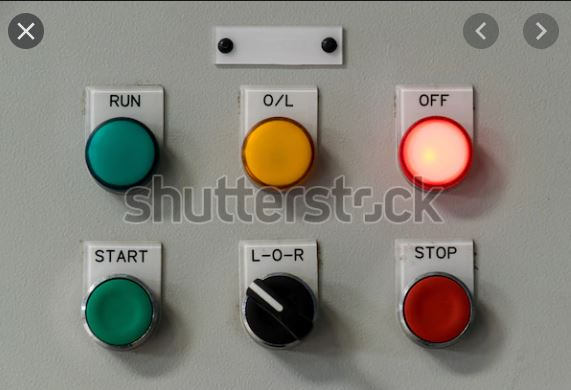Green_Led_Off: (82, 114, 165, 193), (81, 273, 161, 350)
Red_Led_Off: (400, 269, 480, 350)
Red_Led_On: (393, 111, 477, 194)
Yellow_Led_Off: (241, 113, 319, 193)
